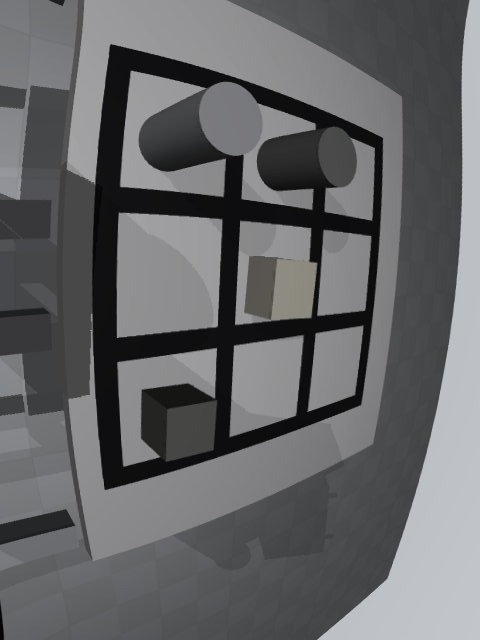can: (138, 81, 263, 172)
cube: (141, 384, 217, 462)
cylinder: (257, 126, 357, 191)
foam: (244, 256, 318, 320)
